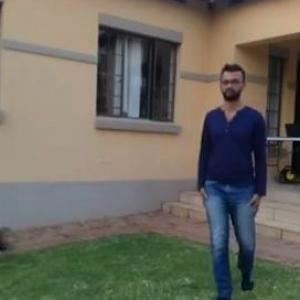follow: (194, 71, 265, 289)
